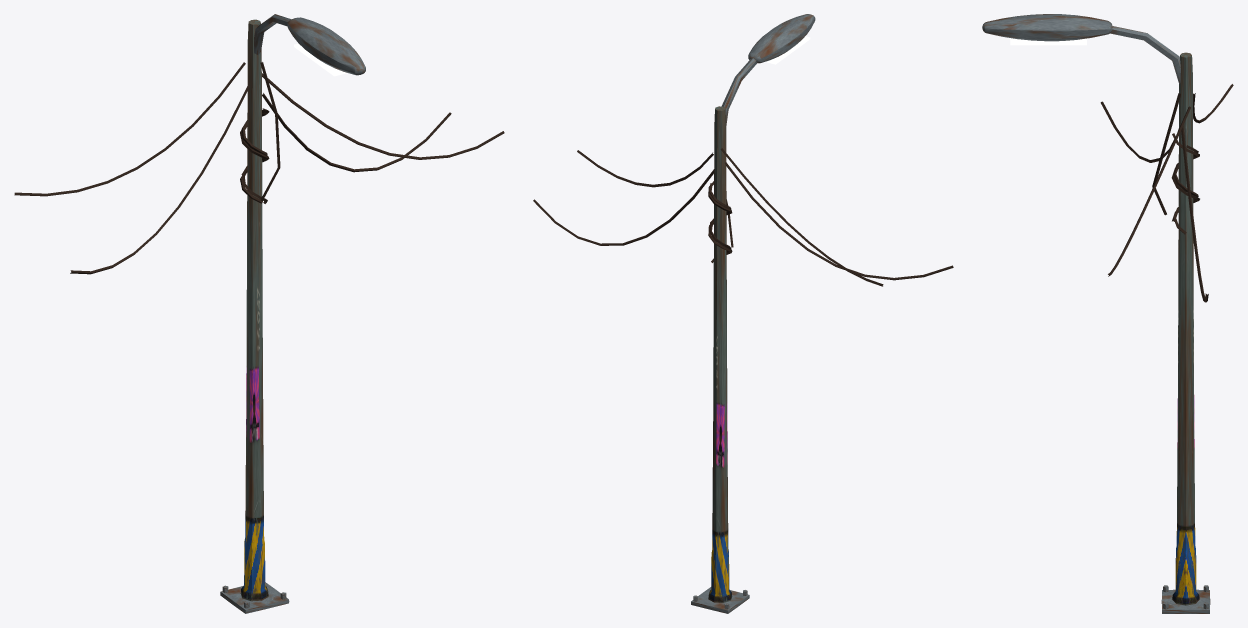
Rendered from env_lamp-CEDzD5O8.glb.
The picture shows the model from 3 angles, left to right: view 1: azimuth 30°, elevation 25°; view 2: azimuth 150°, elevation 25°; view 3: azimuth 270°, elevation 25°; orthographic projection. The views are drawn at different scales.
Parts seen in each view (by area): view 1: env_lamp_body; view 2: env_lamp_body; view 3: env_lamp_body.
Boxes of the visible parts, x1=… form: env_lamp_body: x1=14, y1=14, x2=504, y2=613; env_lamp_body: x1=533, y1=14, x2=953, y2=613; env_lamp_body: x1=982, y1=14, x2=1233, y2=613.
Size of the model in its own units: 2.38 by 3.21 by 1.25.
2 materials, 2 textured.
